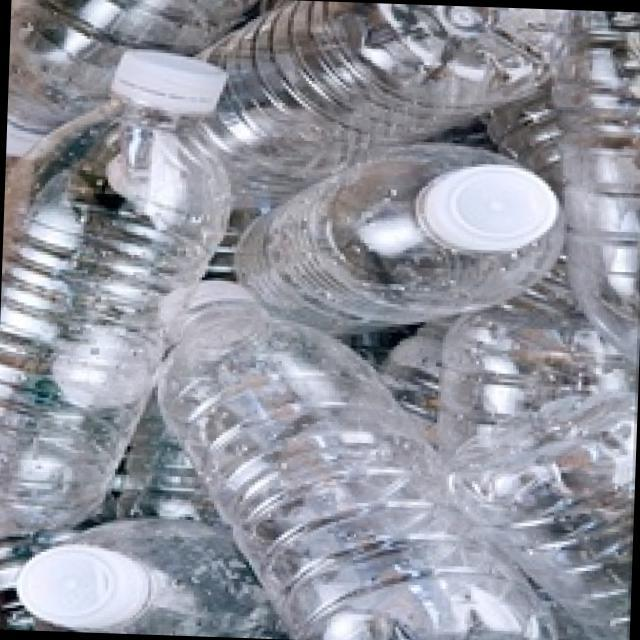good: (122, 231, 565, 635), (0, 33, 282, 553), (221, 128, 563, 344)
